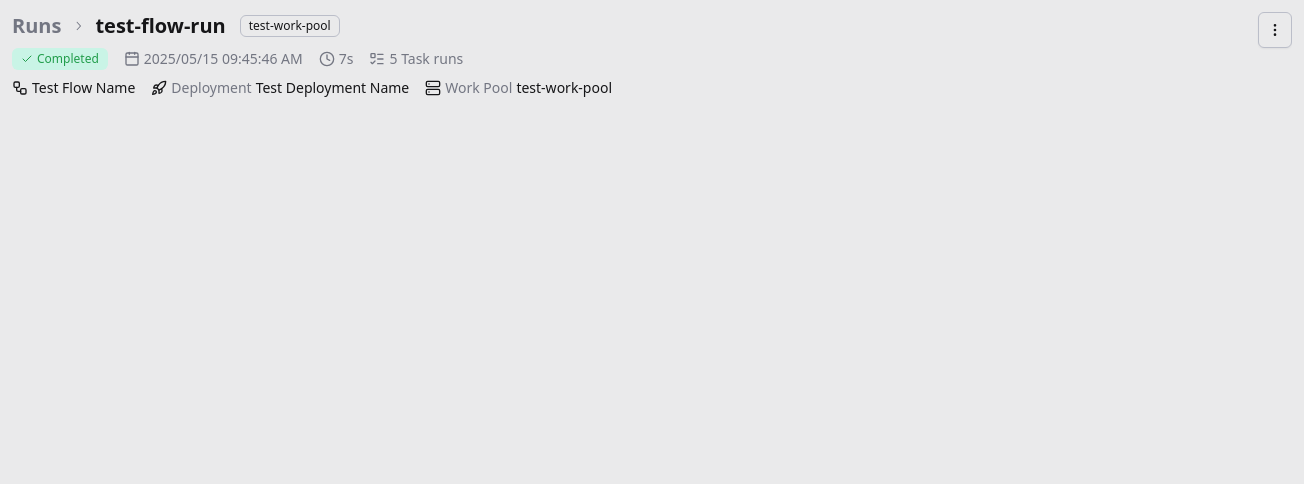
Scenario: FlowRunHeader › shows 'Change state' option for terminal states
Expected: the text "test-flow-run" is shown, [95, 12, 226, 40]
Click the button.
click(1275, 30)  # box [1258, 12, 1292, 48]
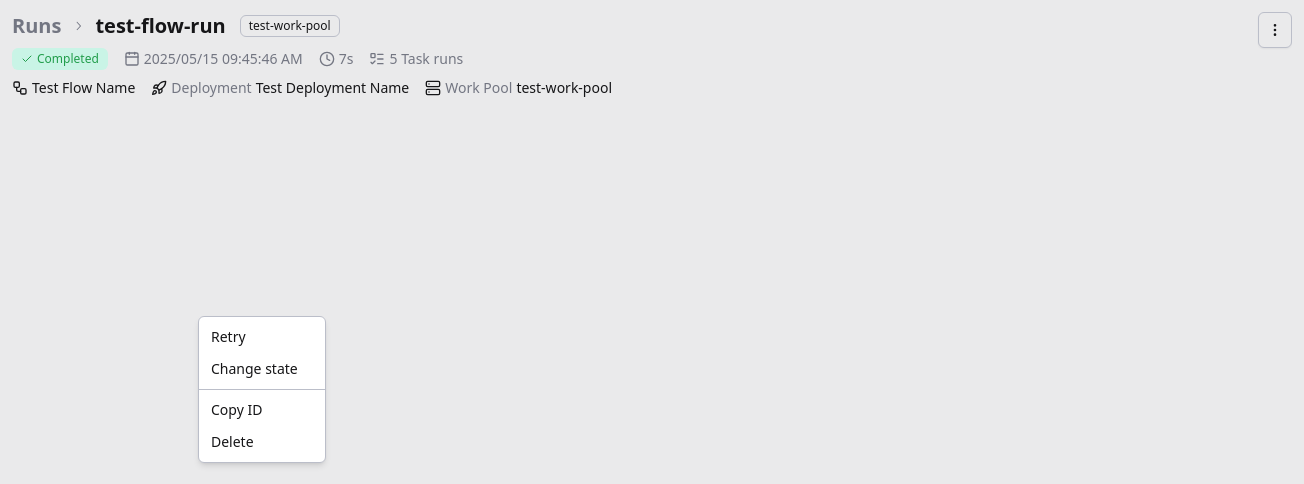
Expected: the menu item "Change state" is shown, [211, 359, 298, 378]
